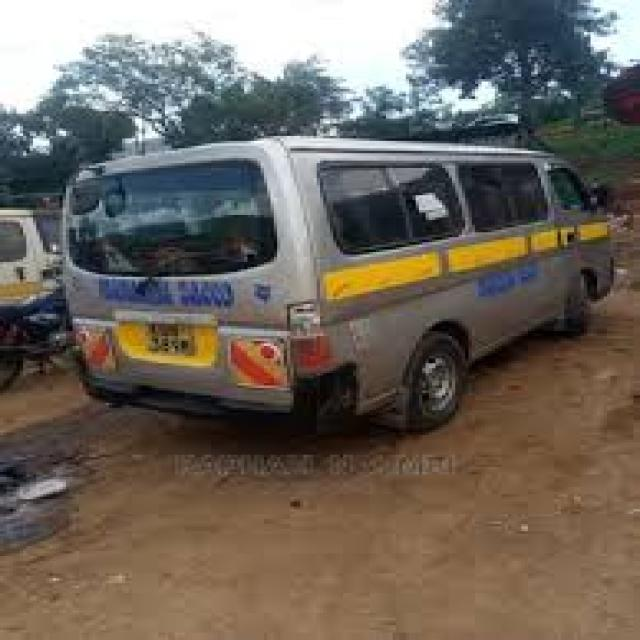matatu: (42, 36, 640, 463)
